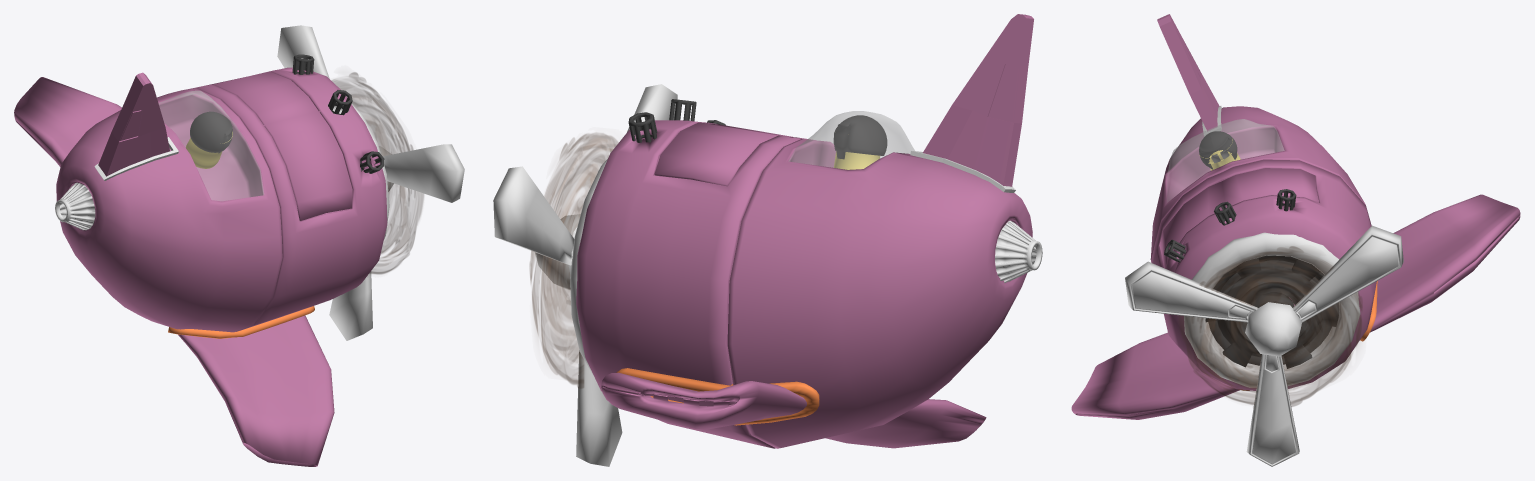
File: Aeroplane_animation.glb
The picture shows the model from 3 angles, left to right: view 1: azimuth 30°, elevation 25°; view 2: azimuth 150°, elevation 25°; view 3: azimuth 270°, elevation 25°; orthographic projection. The views are drawn at different scales.
Visible parts, largest first — view 1: Plane main body, Circle.002, pCube1_Blur_effect_0, Circle.006, Cylinder.002; view 2: Plane main body, Circle.002, pCube1_Blur_effect_0, Circle.006, Circle.001, Cylinder.002; view 3: Plane main body, Circle.002, pCube1_Blur_effect_0, Circle.001, Circle.009, Circle.010, Cylinder.002.
Part boxes in pixels (x1,y1,x2,y2): Plane main body: (14, 67, 387, 466); Circle.002: (277, 25, 464, 340); pCube1_Blur_effect_0: (332, 72, 423, 274); Circle.006: (55, 182, 95, 230); Cylinder.002: (292, 54, 384, 173); Plane main body: (576, 14, 1033, 448); Circle.002: (493, 84, 677, 466); pCube1_Blur_effect_0: (529, 133, 618, 388); Circle.006: (995, 220, 1042, 282); Circle.001: (570, 159, 607, 375); Cylinder.002: (628, 99, 725, 142); Plane main body: (1071, 14, 1520, 419); Circle.002: (1125, 225, 1403, 466); pCube1_Blur_effect_0: (1179, 246, 1362, 407); Circle.001: (1184, 232, 1360, 387); Circle.009: (1205, 258, 1338, 368); Circle.010: (1208, 255, 1331, 365); Cylinder.002: (1164, 189, 1296, 262).
Size of the model in its own units: 52.08 by 52.94 by 61.97.
9 materials, 1 textured.
